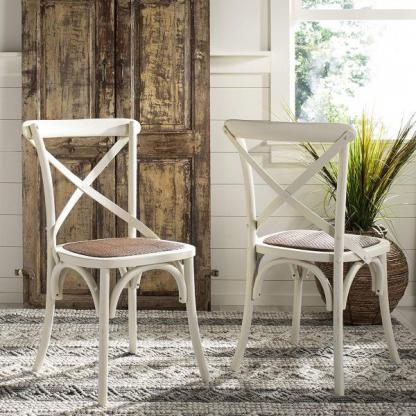chair: (9, 117, 215, 409), (211, 114, 412, 399)
door: (23, 2, 206, 306)
